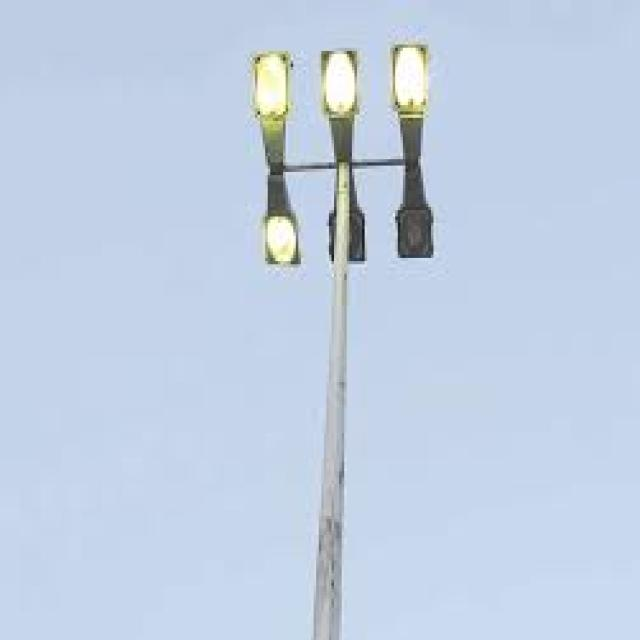Street Light: (247, 38, 433, 640)
